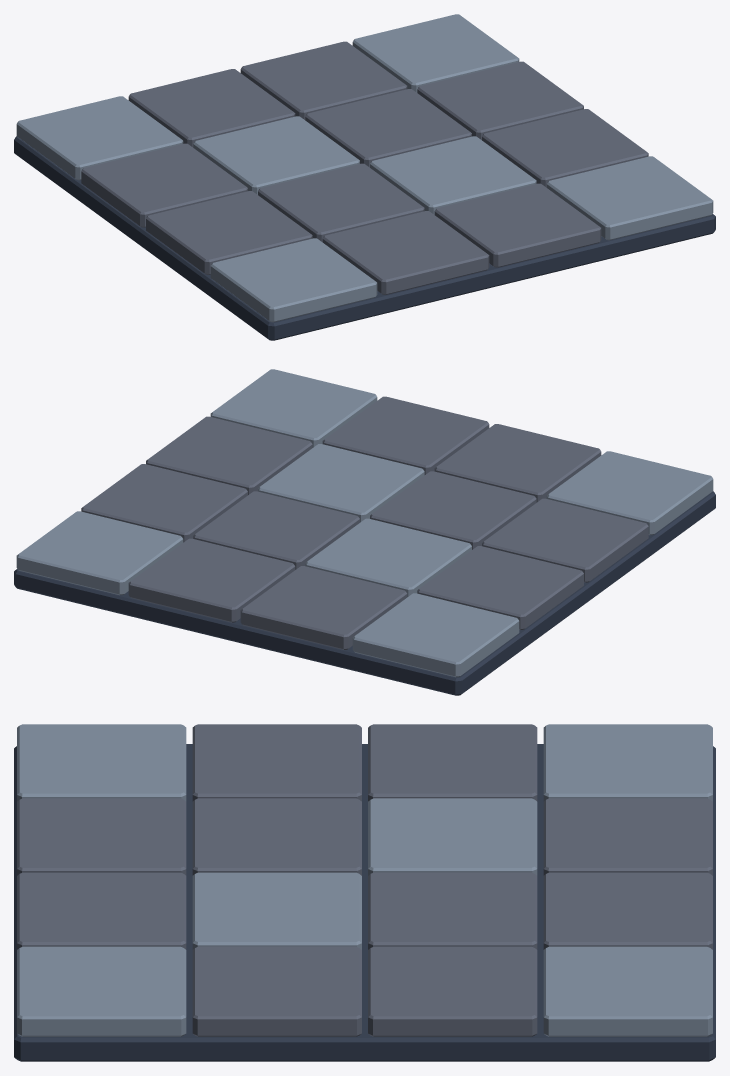
File: floor-worn.glb
3 views of the same model, one above another, from view 1: azimuth 30°, elevation 25°; view 2: azimuth 150°, elevation 25°; view 3: azimuth 270°, elevation 25° (orthographic). The views are drawn at different scales.
Visible parts, largest first — view 1: floor-worn__body; view 2: floor-worn__body; view 3: floor-worn__body.
Boxes of the visible parts, bbox=[...] form: floor-worn__body: bbox=[14, 14, 715, 340]; floor-worn__body: bbox=[14, 369, 715, 695]; floor-worn__body: bbox=[14, 724, 715, 1061].
Bounding box in the file's own units: 2 × 0.14 × 2.
